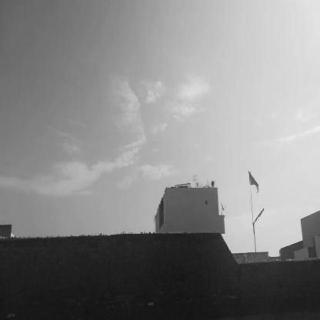other: (245, 164, 262, 197)
